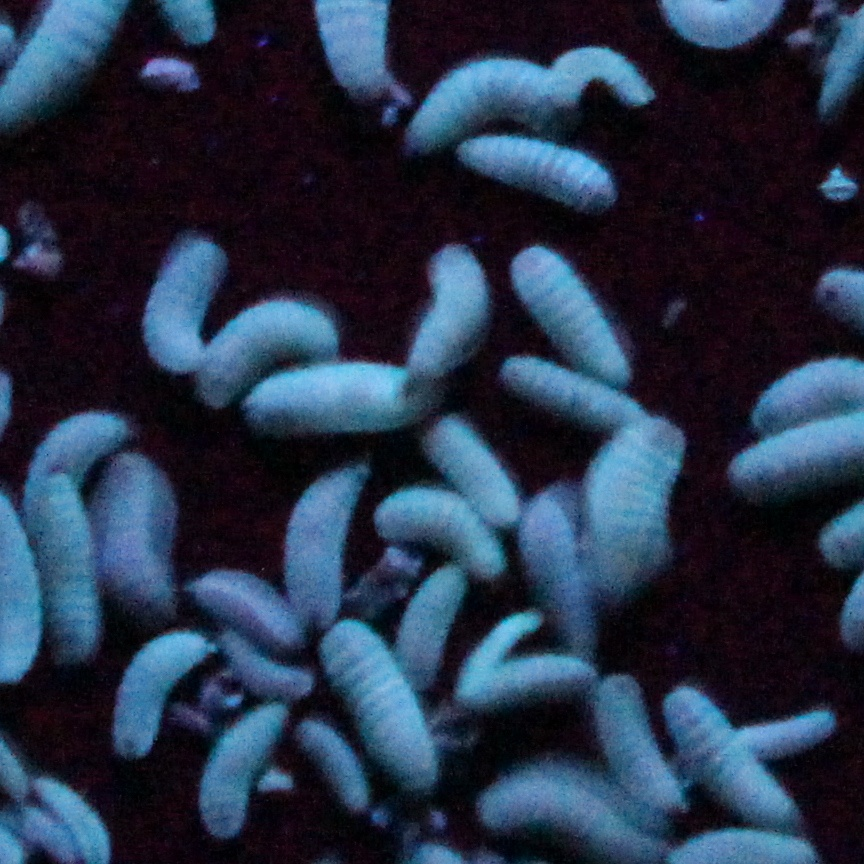larve: (324, 614, 444, 796), (658, 678, 803, 828), (585, 412, 690, 587), (510, 246, 635, 387), (506, 482, 608, 646), (194, 294, 356, 396), (483, 764, 651, 862), (281, 460, 374, 630), (451, 128, 626, 214), (594, 673, 690, 828), (24, 464, 99, 660), (396, 55, 546, 146), (374, 478, 508, 575), (251, 366, 431, 435), (101, 460, 178, 621), (144, 232, 226, 382), (110, 630, 208, 755), (415, 241, 492, 396), (194, 703, 287, 830), (499, 341, 644, 421), (424, 414, 517, 525), (542, 41, 658, 119), (392, 566, 478, 669), (206, 628, 319, 700), (31, 407, 133, 485), (299, 716, 376, 812), (196, 569, 299, 635), (460, 621, 546, 687), (728, 707, 849, 753), (483, 655, 594, 694), (137, 50, 212, 94)
